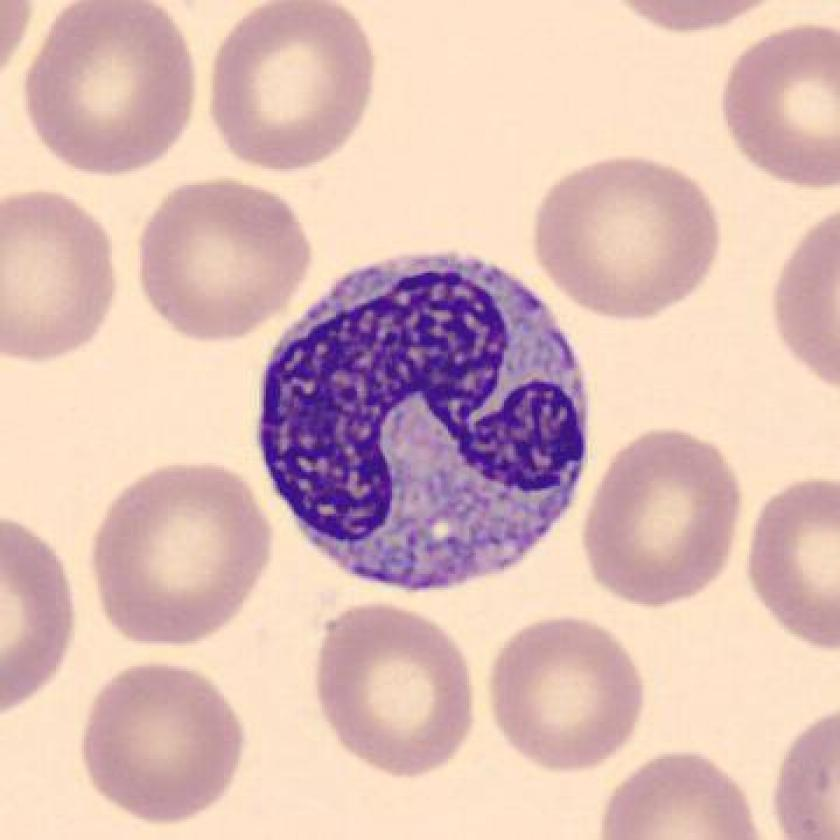monocyte: (232, 233, 626, 615)
